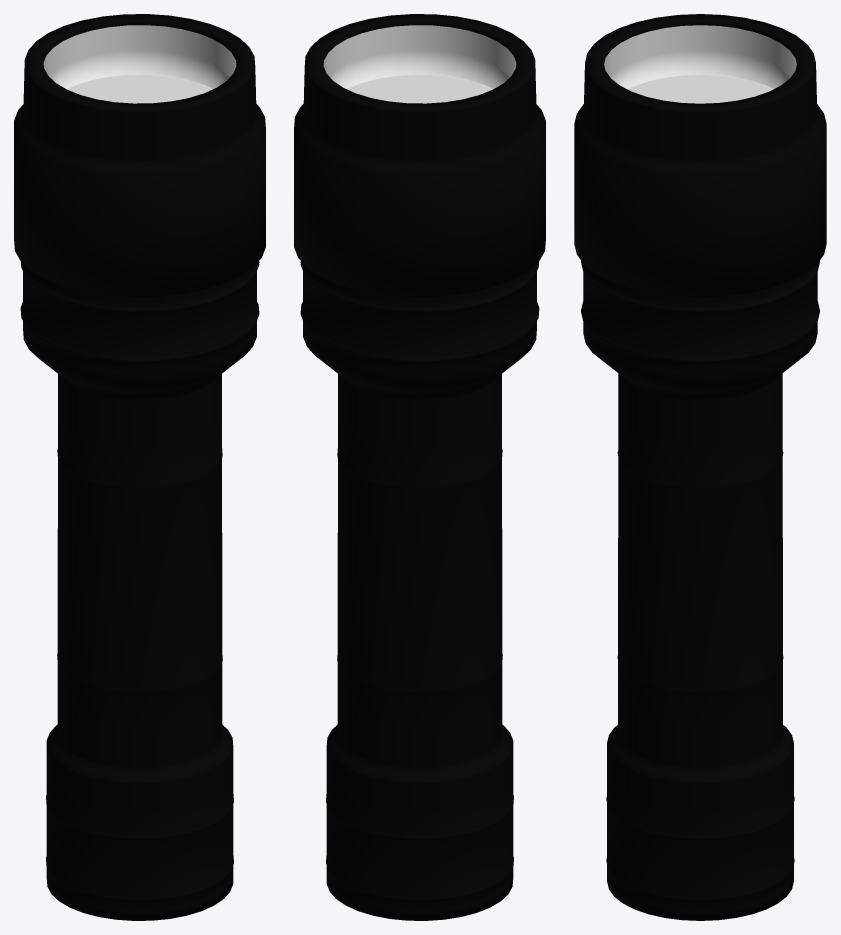
Rendered from FlashLight.fbx.
3 renders of one model, left to right at view 1: azimuth 30°, elevation 25°; view 2: azimuth 150°, elevation 25°; view 3: azimuth 270°, elevation 25°, orthographic.
Parts seen in each view (by area): view 1: FlashLight; view 2: FlashLight; view 3: FlashLight.
Boxes of the visible parts, x1,y1,x2,y2 form: FlashLight: (14,14,265,920); FlashLight: (294,14,545,920); FlashLight: (574,14,826,920).
Size of the model in its own units: 5.86 by 20.98 by 5.86.
3 materials, 1 textured.
